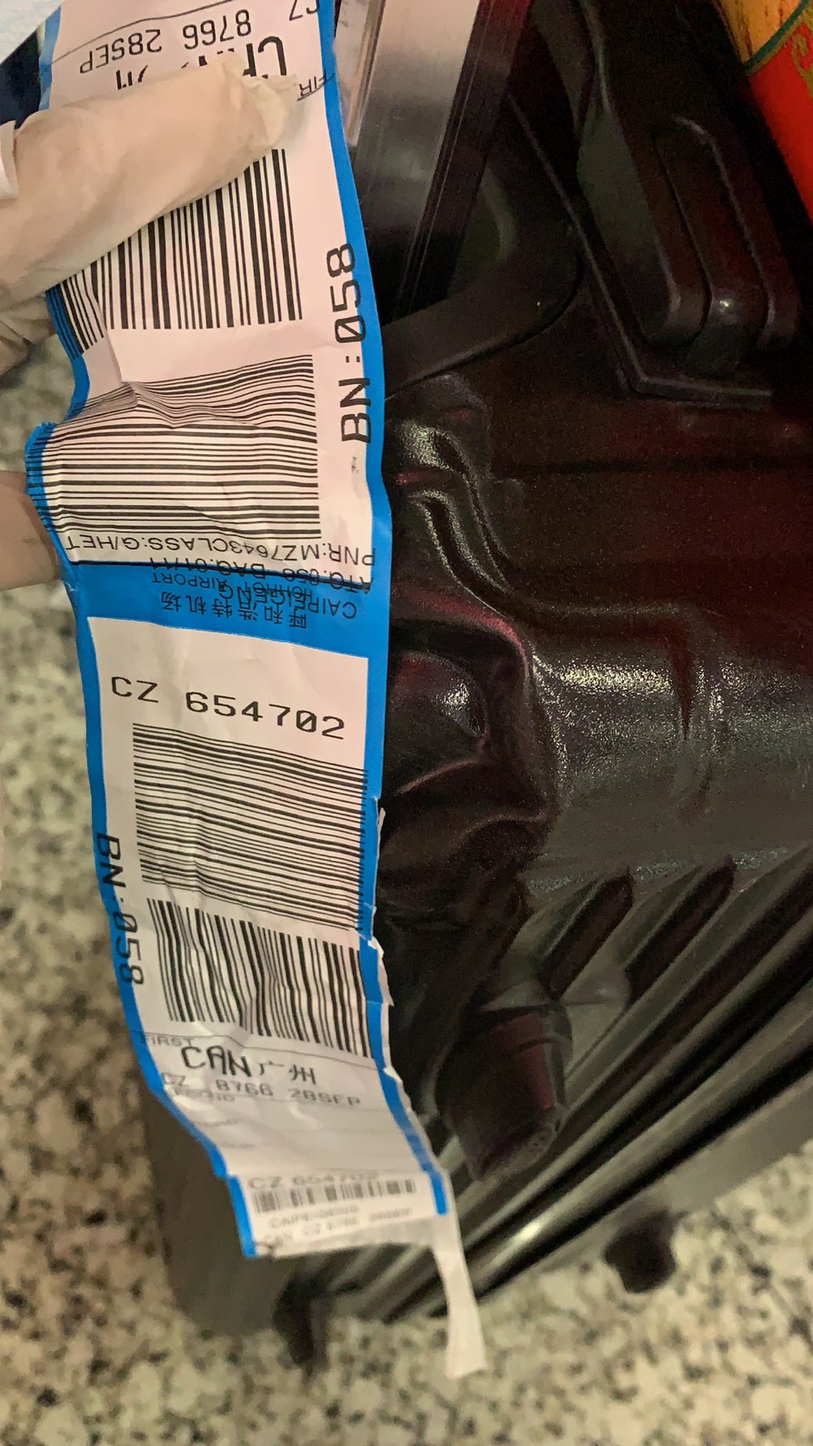rupture: (378, 615, 552, 879)
